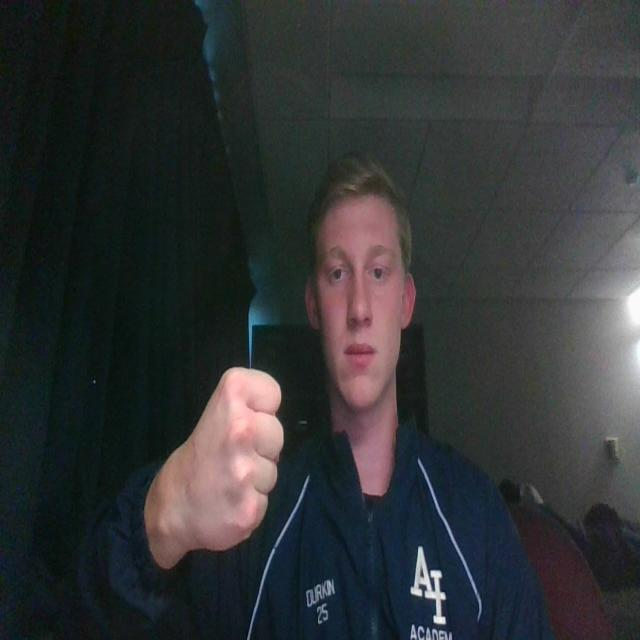rock: (174, 352, 290, 572)
